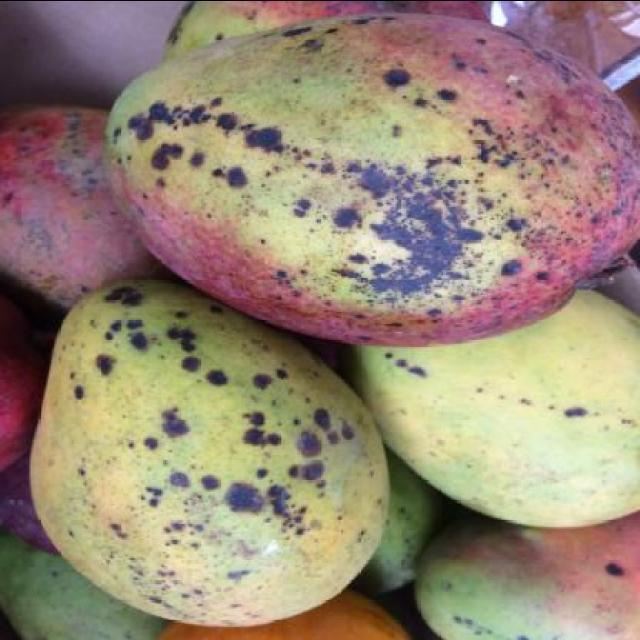Mango: (1, 0, 640, 640), (110, 17, 639, 348)
